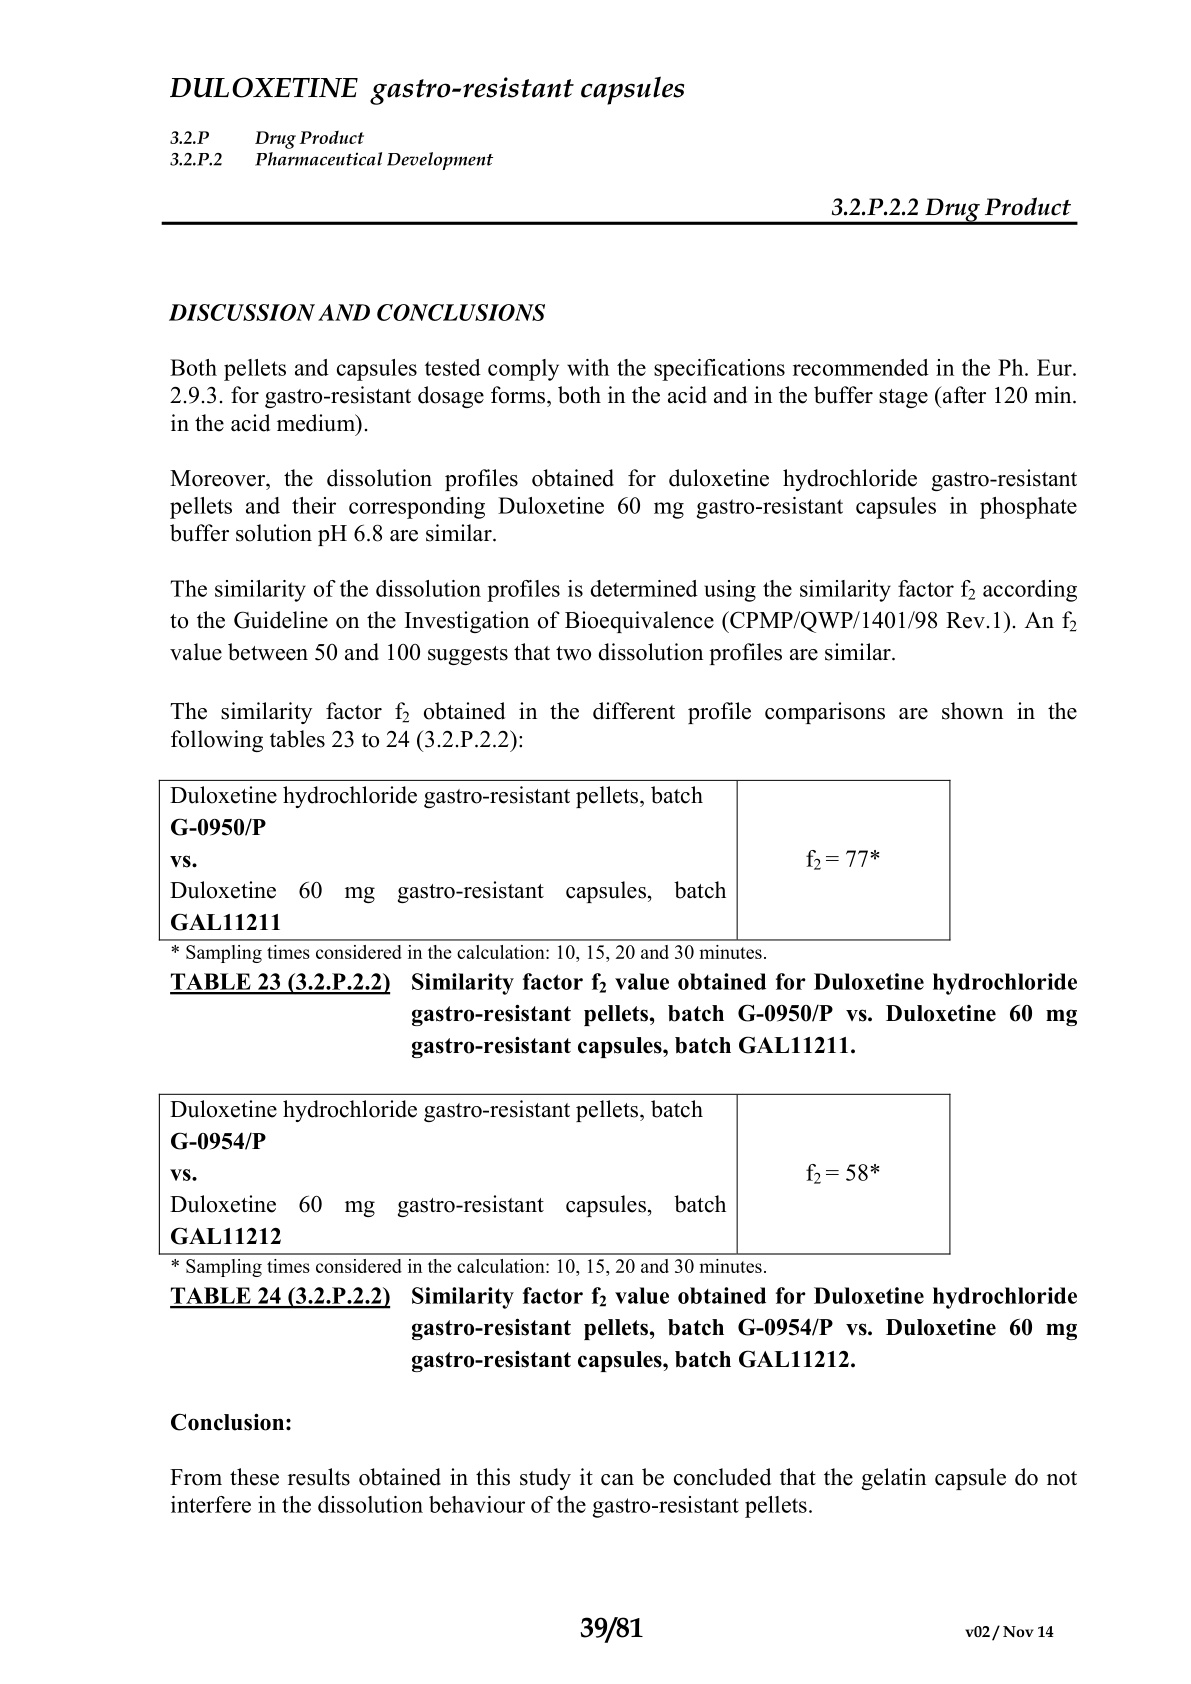full_lined: (147, 772, 964, 950), (143, 1084, 956, 1260)
